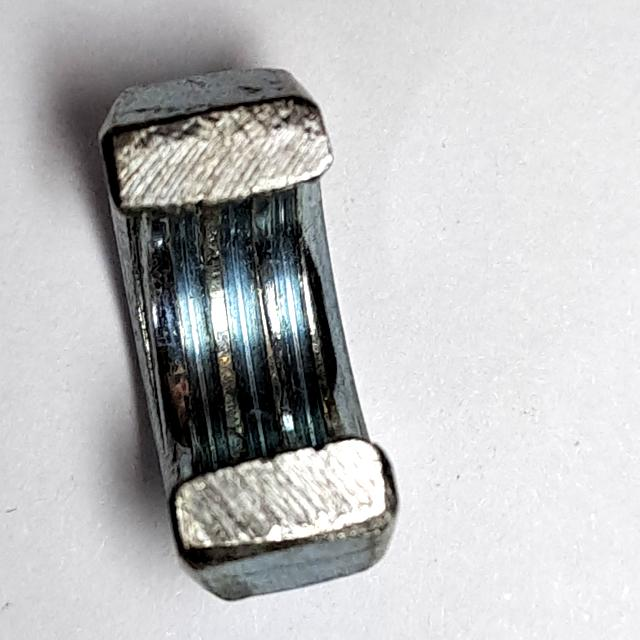Side-Fracture: (72, 53, 419, 618)
